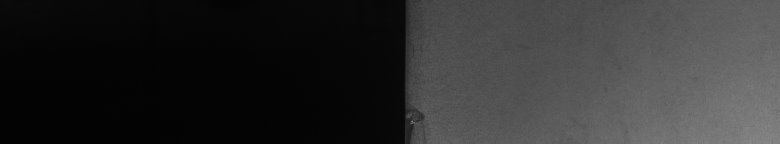hb: (416, 101, 433, 127)
